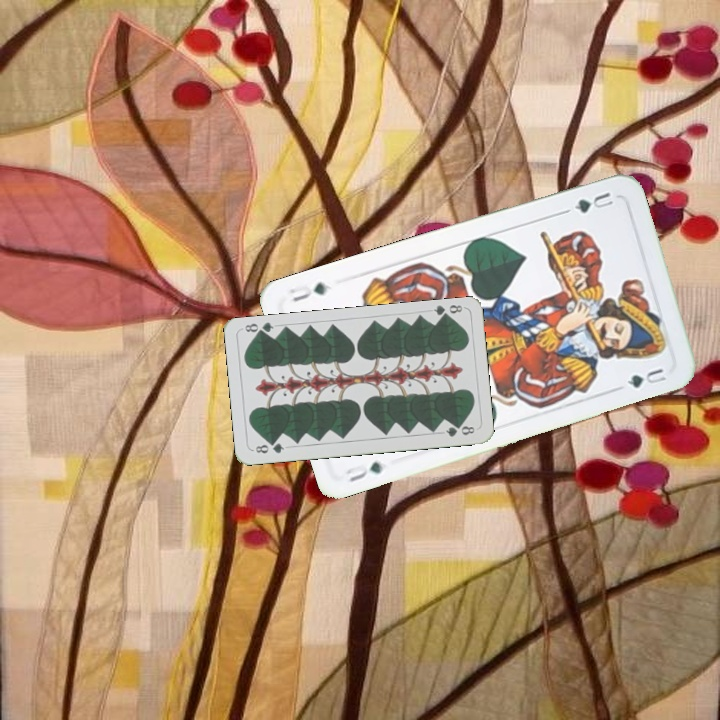G8: (430, 301, 465, 322), (251, 438, 287, 456)
GU: (570, 188, 616, 216), (342, 457, 386, 485)
